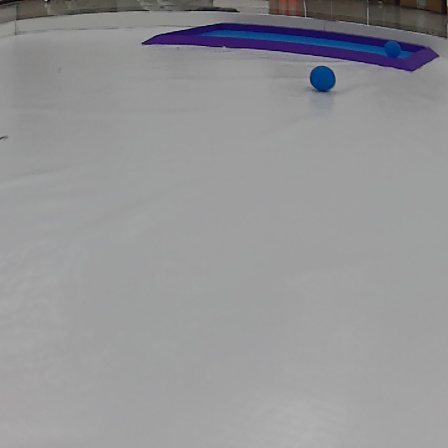blue: (306, 66, 337, 91), (383, 38, 402, 60)
blue_aim: (141, 18, 438, 75)
